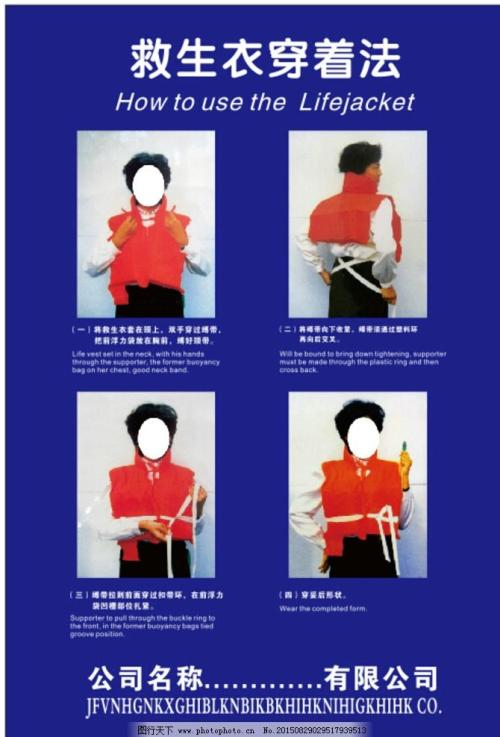reflective_clothes: (316, 444, 408, 560), (305, 175, 405, 281), (109, 448, 201, 555), (108, 201, 196, 307)
